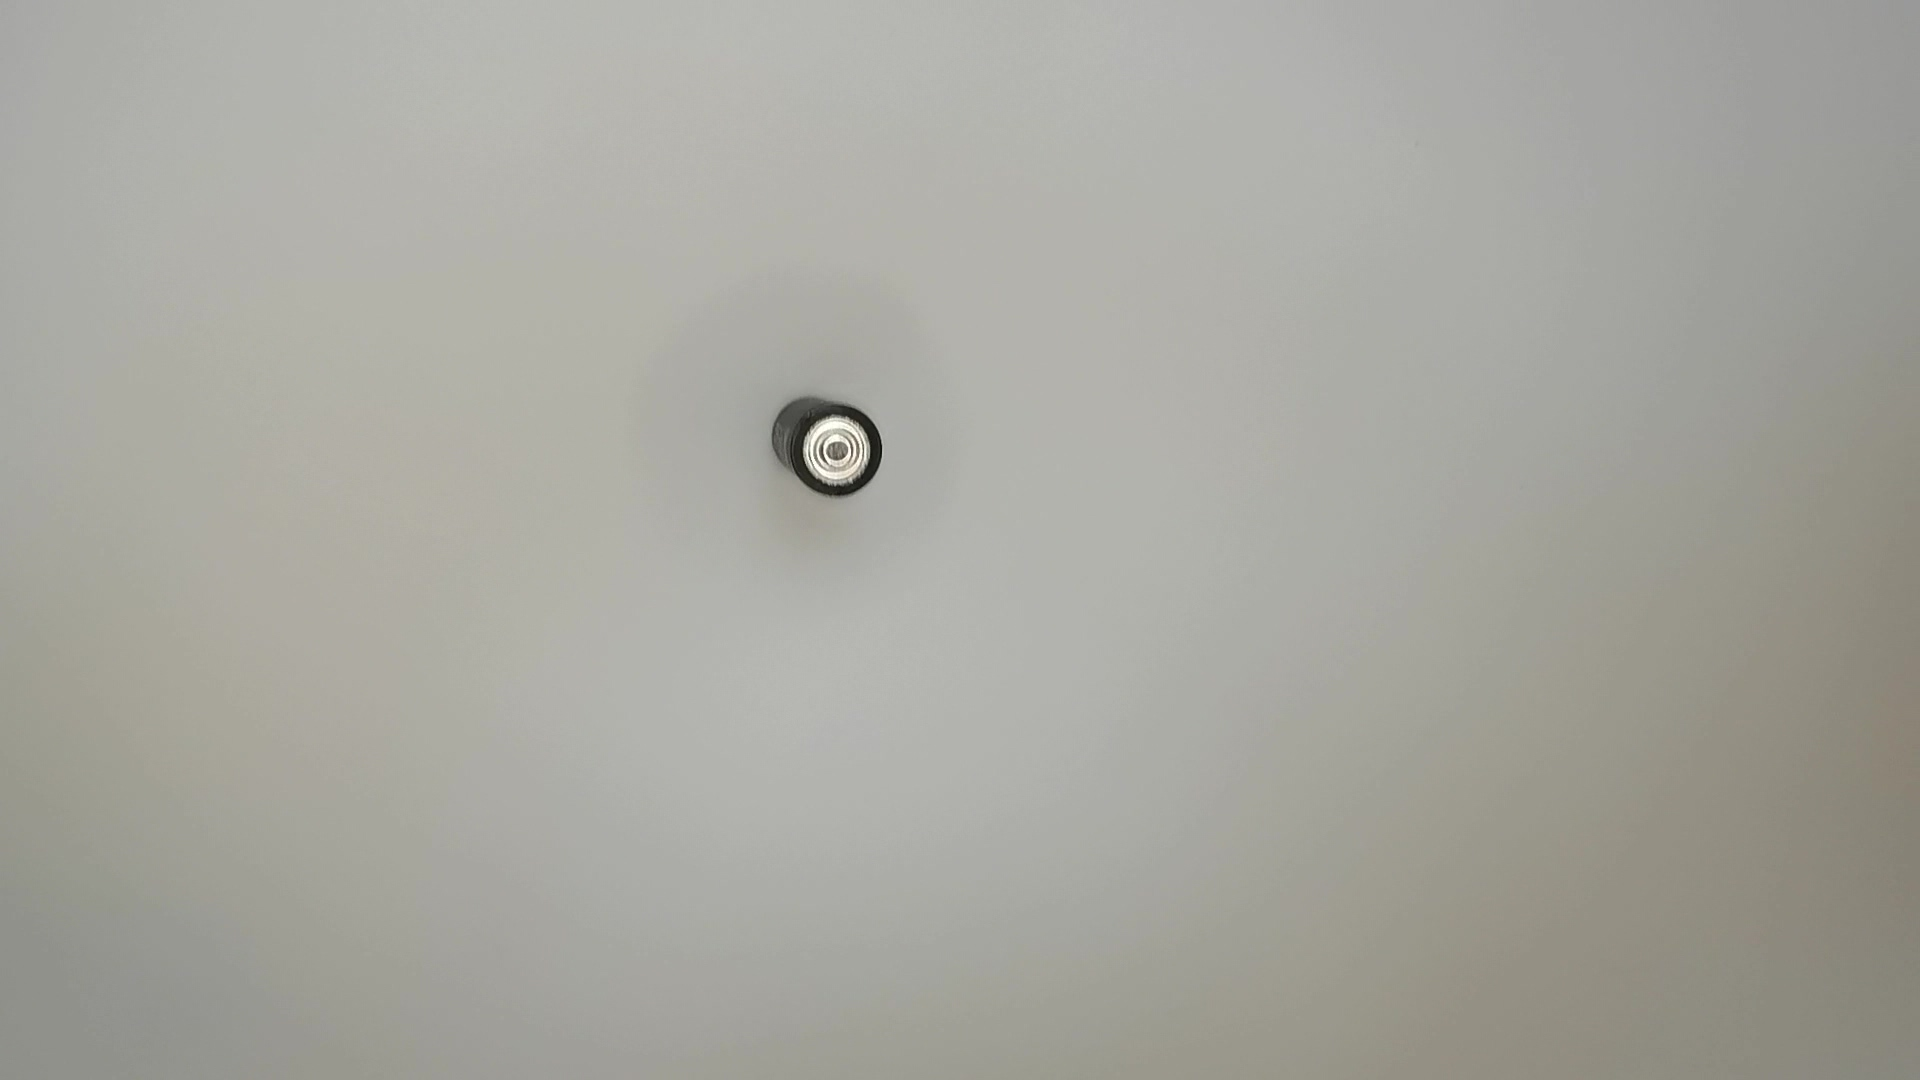battery: (770, 389, 887, 502)
